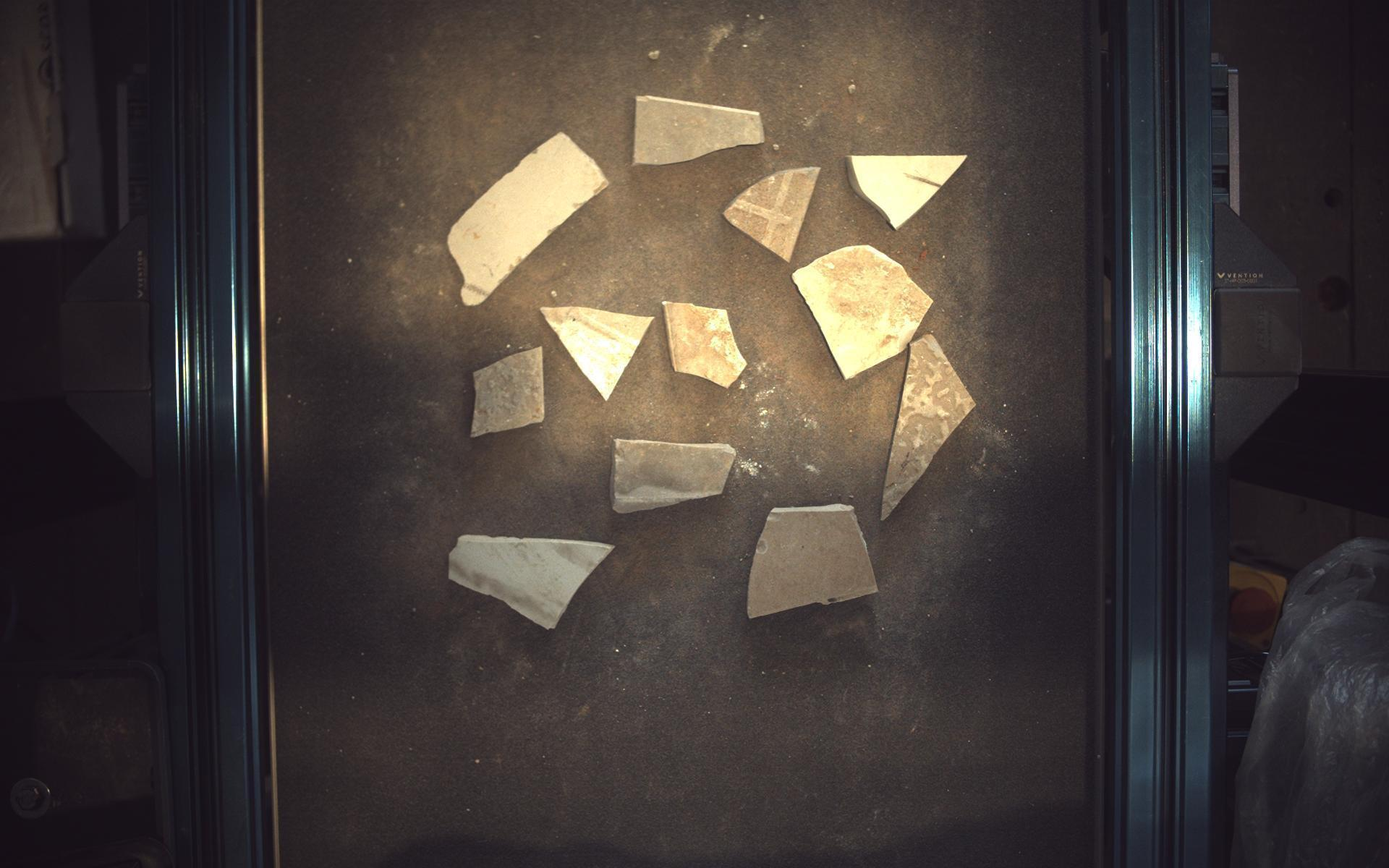tile: (447, 132, 609, 305), (794, 244, 935, 379), (883, 333, 977, 520), (449, 535, 613, 630), (749, 504, 879, 619), (541, 307, 655, 401), (611, 439, 736, 514), (634, 95, 766, 164), (725, 166, 821, 260), (849, 154, 968, 229), (666, 300, 747, 388), (471, 346, 543, 438)
